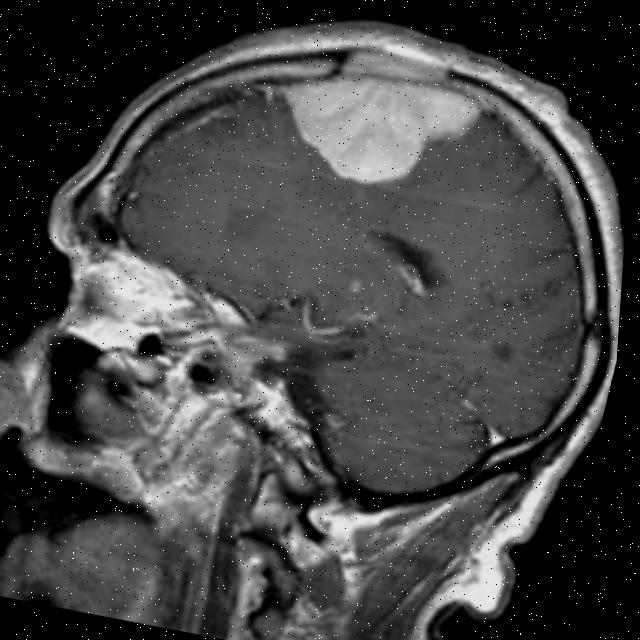Meningioma: (260, 45, 491, 201)
